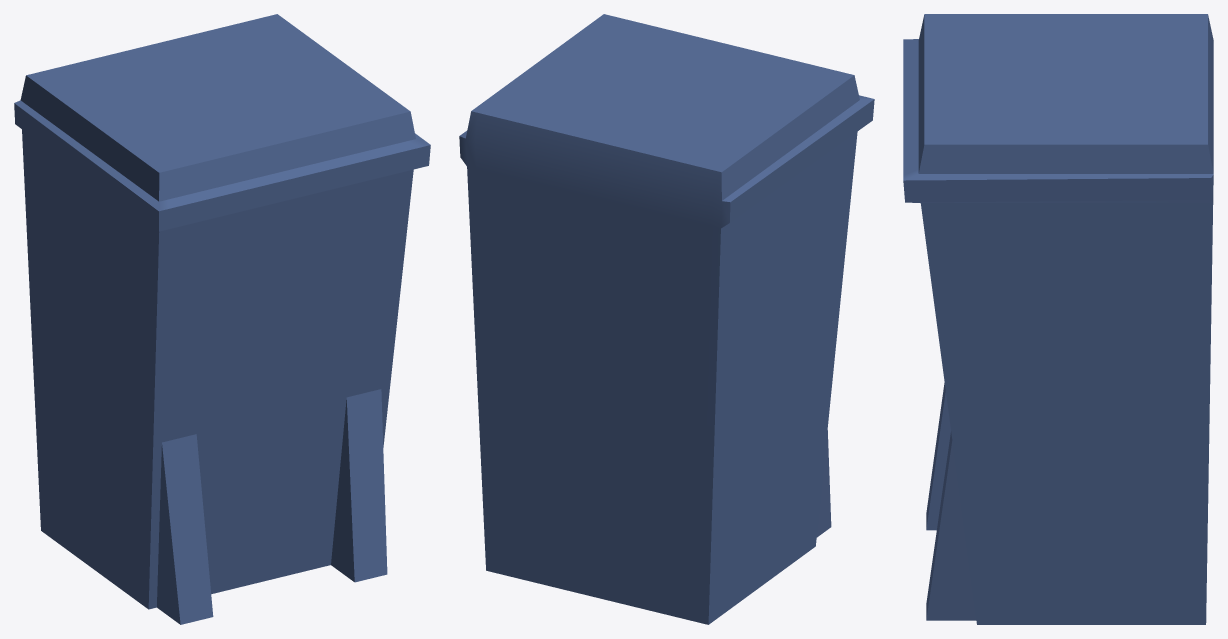
File: S_recyclingbin.fbx
The picture shows the model from 3 angles, left to right: view 1: azimuth 30°, elevation 25°; view 2: azimuth 150°, elevation 25°; view 3: azimuth 270°, elevation 25°; orthographic projection. The views are drawn at different scales.
Parts seen in each view (by area): view 1: recyclingbin; view 2: recyclingbin; view 3: recyclingbin.
Part boxes in pixels (x1,y1,x2,y2): recyclingbin: (14, 14, 430, 624); recyclingbin: (459, 14, 874, 624); recyclingbin: (903, 14, 1213, 624).
Bounding box in the file's own units: 124 × 199 × 115.
